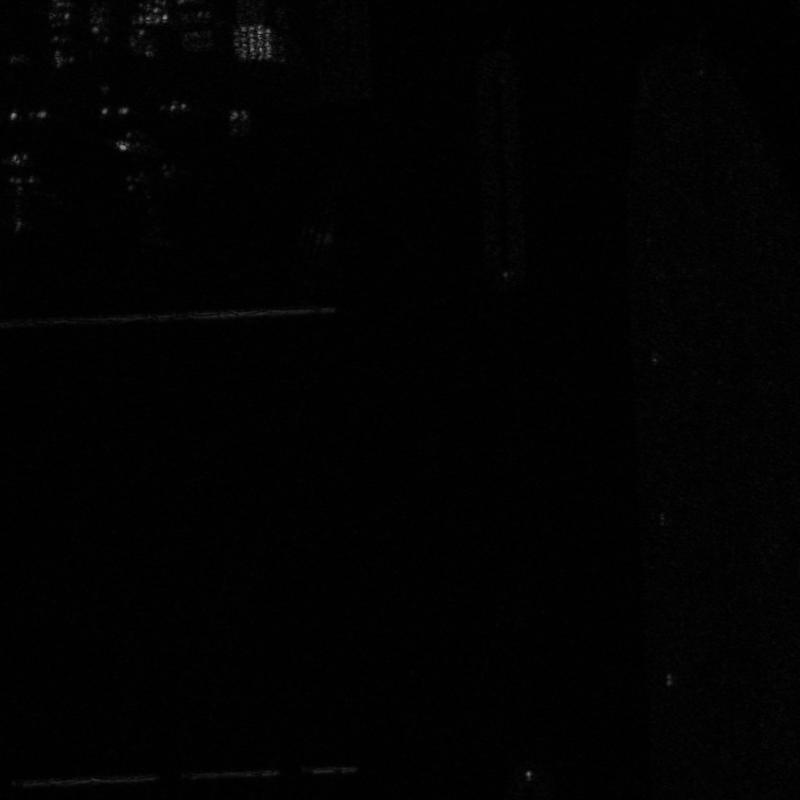Boeing737: (105, 126, 186, 237), (1, 141, 70, 240)
